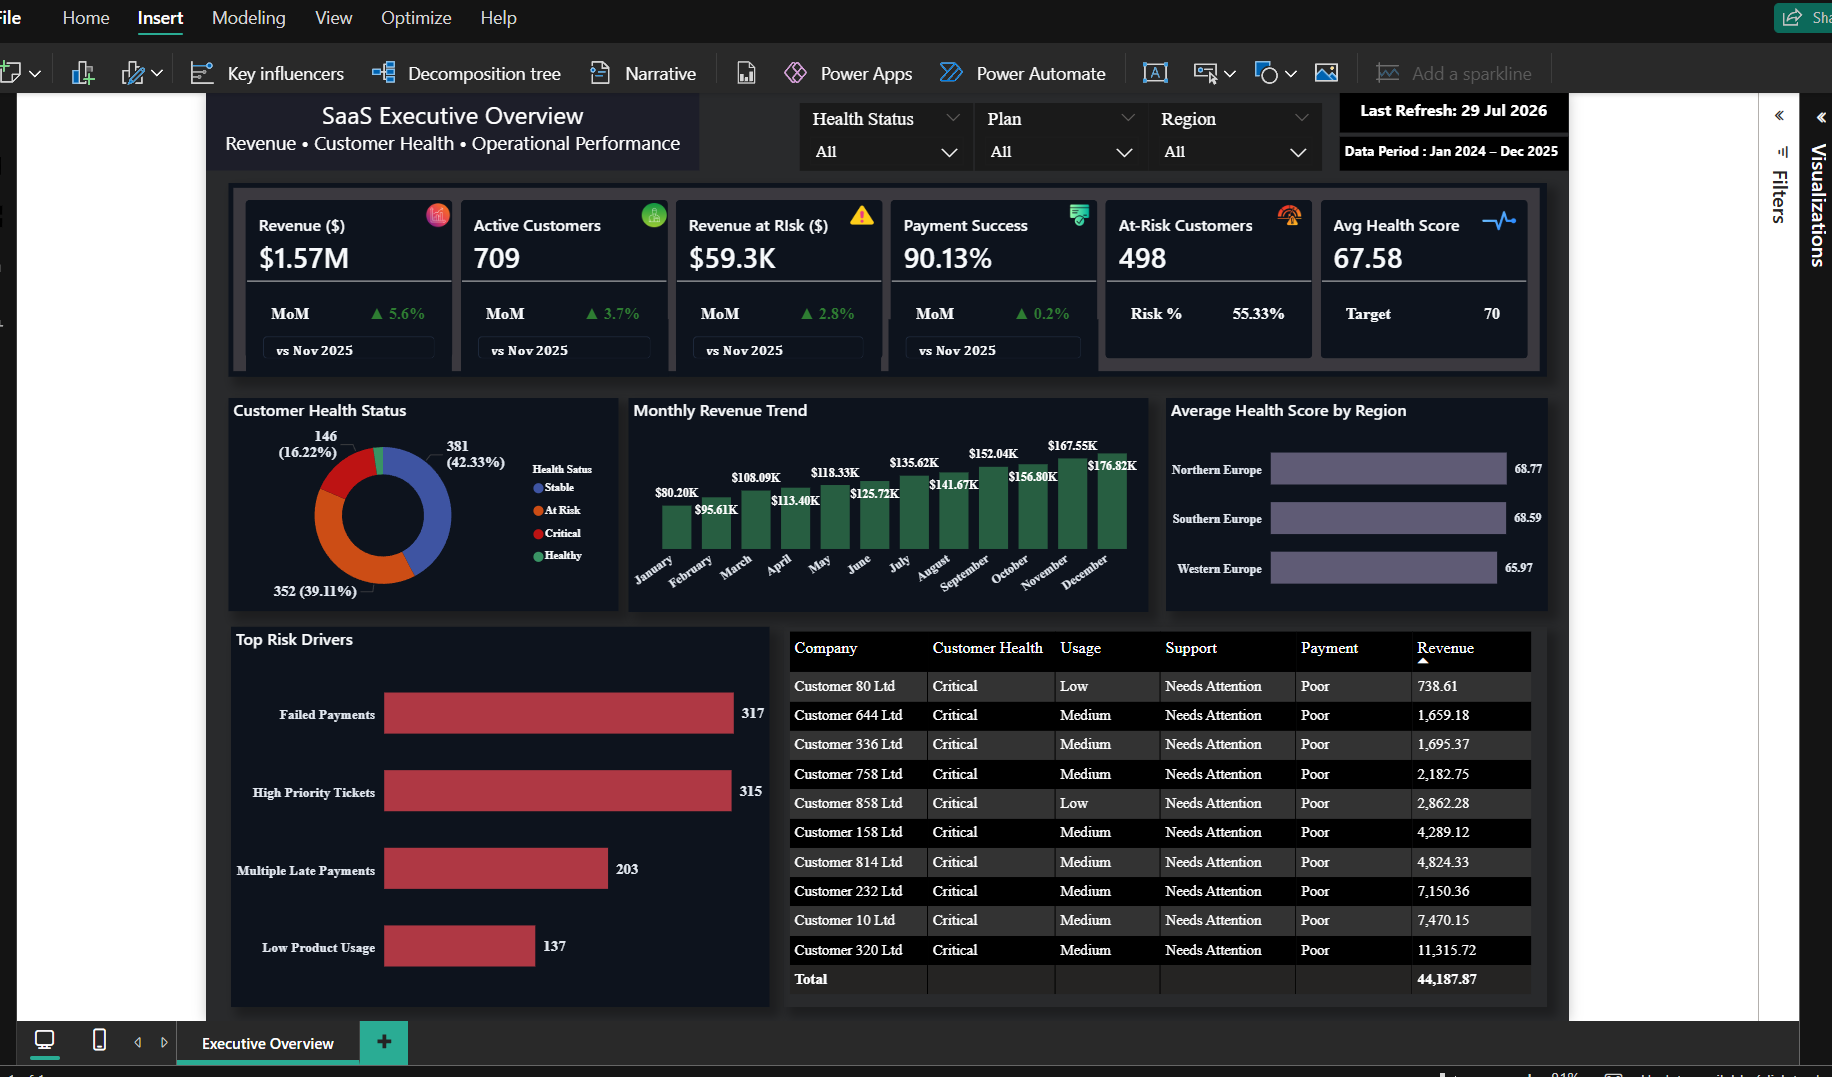

What the dashboard file says about the page in this screenshot:
{"tool":"powerbi","page":{"name":"Executive Overview","canvas":[1350,920],"ordinal":0},"visuals":[{"type":"cardVisual","fields":{"Data":["Calculations.Total Revenue","Calculations.Current Month Active Customers","Calculations.Current Month Revenue at Risk","Calculations.Current Month Payment Success %","Calculations.Customers at Risk","Calculations.Avg Health Score"]},"box":[22.3,89.2,1306.7,192],"z":0},{"type":"donutChart","title":"Customer Health Status","fields":{"Category":["Customer Health.customer_health_status"],"Y":["Calculations.Total Customers"]},"box":[22.4,302.6,386.6,211.5],"z":1000},{"type":"clusteredColumnChart","title":"Monthly Revenue Trend","fields":{"Category":["Dim Date.month_name"],"Y":["Calculations.Total Revenue"]},"box":[418.6,302.2,515.2,211.8],"z":2000},{"type":"clusteredBarChart","title":"Average Health Score by Region","fields":{"Y":["Avg(Customer Health.health_score)"],"Category":["Dim Customer.region"]},"box":[951.1,302.6,378.2,211.5],"z":3000},{"type":"tableEx","fields":{"Values":["Customer Health.company_name","Customer Health.customer_health_status","Customer Health.usage_health","Customer Health.support_health","Customer Health.payment_health","Sum(Customer Health.total_revenue)"]},"box":[572.3,528.6,756.8,376.5],"z":4000},{"type":"clusteredBarChart","title":"Top Risk Drivers","fields":{"Category":["Risk Drivers.Risk Driver"],"Y":["Calculations.Risk Driver Customers"]},"box":[24.8,528.9,533.8,376.5],"z":5000},{"type":"cardVisual","fields":{"Data":["Calculations.Previous Month Label"]},"box":[39.6,224.2,204.4,57],"z":6000},{"type":"cardVisual","fields":{"Data":["Calculations.Previous Month Label"]},"box":[252.7,224.2,205.6,57],"z":7000},{"type":"cardVisual","fields":{"Data":["Calculations.Previous Month Label"]},"box":[465.7,224.2,203.1,57],"z":8000},{"type":"cardVisual","fields":{"Data":["Calculations.Previous Month Label"]},"box":[676.3,224.2,208.1,57],"z":9000},{"type":"textbox","box":[0,0,489.1,76.8],"z":10000},{"type":"textbox","box":[1123.7,0,226.4,39.1],"z":11000},{"type":"textbox","box":[1123.7,43.1,226.4,33.7],"z":12000},{"type":"slicer","fields":{"Values":["Dim Customer.region"]},"box":[933.9,9.9,172.2,66.9],"z":13000},{"type":"slicer","fields":{"Values":["Dim Plan.plan_name"]},"box":[761.7,9.9,172.2,66.9],"z":14000},{"type":"slicer","fields":{"Values":["Customer Health.customer_health_status"]},"box":[588.3,9.9,172.2,66.9],"z":15000},{"type":"image","box":[215.6,109.1,28.3,24.3],"z":15001},{"type":"image","box":[428.5,109.1,31,24.3],"z":15002},{"type":"image","box":[630.6,109.1,39.1,24.3],"z":15003},{"type":"image","box":[1053.7,109.1,39.1,24.3],"z":15005},{"type":"image","box":[847.5,109.1,36.4,24.3],"z":15006},{"type":"image","box":[1250.4,109.1,60.6,35],"z":15007}]}

Visuals, with their boxes on the page's 1350x920 design canvas (x1, y1, x2, y2). These are canvas units, not pixel positions in the 1832x1077 screenshot, which may show the page scaled, cropped or inside an application window:
cardVisual - Calculations.Total Revenue x Calculations.Current Month Active Customers: (22, 89, 1329, 281)
"Customer Health Status" donutChart: (22, 303, 409, 514)
"Monthly Revenue Trend" clusteredColumnChart: (419, 302, 934, 514)
"Average Health Score by Region" clusteredBarChart: (951, 303, 1329, 514)
tableEx - Customer Health.company_name x Customer Health.customer_health_status: (572, 529, 1329, 905)
"Top Risk Drivers" clusteredBarChart: (25, 529, 559, 905)
cardVisual - Calculations.Previous Month Label: (40, 224, 244, 281)
cardVisual - Calculations.Previous Month Label: (253, 224, 458, 281)
cardVisual - Calculations.Previous Month Label: (466, 224, 669, 281)
cardVisual - Calculations.Previous Month Label: (676, 224, 884, 281)
textbox: (0, 0, 489, 77)
textbox: (1124, 0, 1350, 39)
textbox: (1124, 43, 1350, 77)
slicer - Dim Customer.region: (934, 10, 1106, 77)
slicer - Dim Plan.plan_name: (762, 10, 934, 77)
slicer - Customer Health.customer_health_status: (588, 10, 760, 77)
image: (216, 109, 244, 133)
image: (428, 109, 460, 133)
image: (631, 109, 670, 133)
image: (1054, 109, 1093, 133)
image: (848, 109, 884, 133)
image: (1250, 109, 1311, 144)
